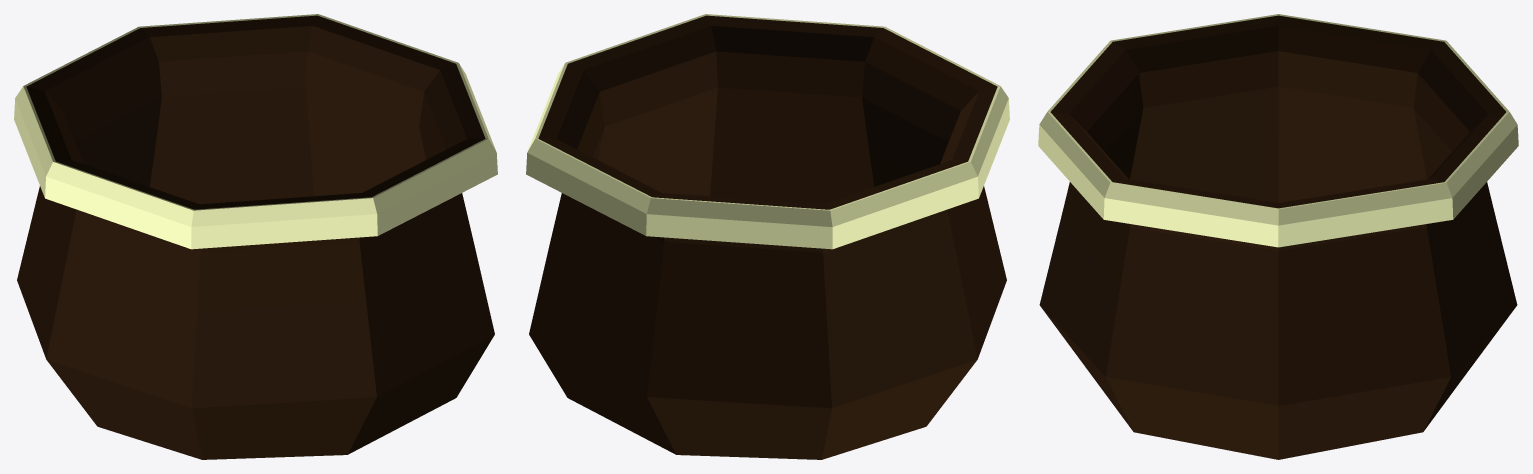
The model's file is Pot 3.fbx.
The picture shows the model from 3 angles, left to right: view 1: azimuth 30°, elevation 25°; view 2: azimuth 150°, elevation 25°; view 3: azimuth 270°, elevation 25°; orthographic projection.
Parts seen in each view (by area): view 1: Node 0; view 2: Node 0; view 3: Node 0.
Part boxes in pixels (left/top/right/bottom): Node 0: left=14, top=14, right=497, bottom=459; Node 0: left=526, top=14, right=1009, bottom=459; Node 0: left=1038, top=14, right=1518, bottom=459.
Bounding box in the file's own units: 0.5428 × 0.3732 × 0.5428.
